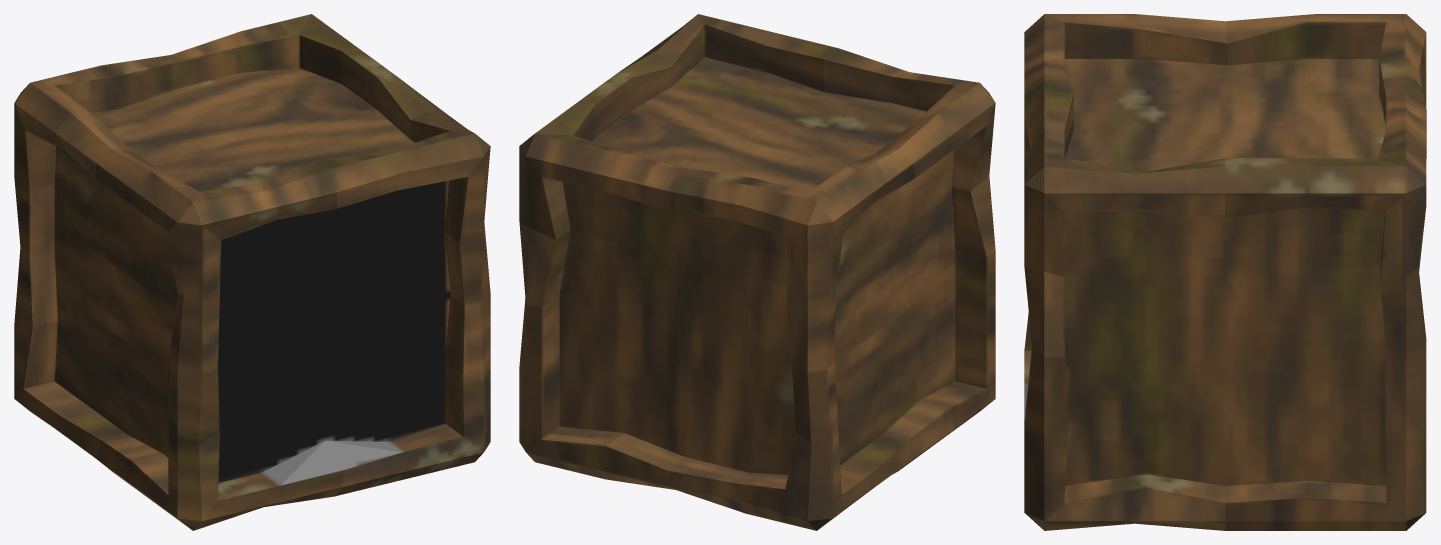
Rendered from Black Forest Wood Drawer.fbx.
3 renders of one model, left to right at view 1: azimuth 30°, elevation 25°; view 2: azimuth 150°, elevation 25°; view 3: azimuth 270°, elevation 25°, orthographic. The views are drawn at different scales.
Parts seen in each view (by area): view 1: Cube; view 2: Cube; view 3: Cube.
Boxes of the visible parts, <box> form: Cube: <box>14,14,490,530</box>; Cube: <box>519,14,995,530</box>; Cube: <box>1024,14,1426,530</box>.
Bounding box in the file's own units: 100 × 100 × 100.
Materials: 1 (1 with a texture image).
